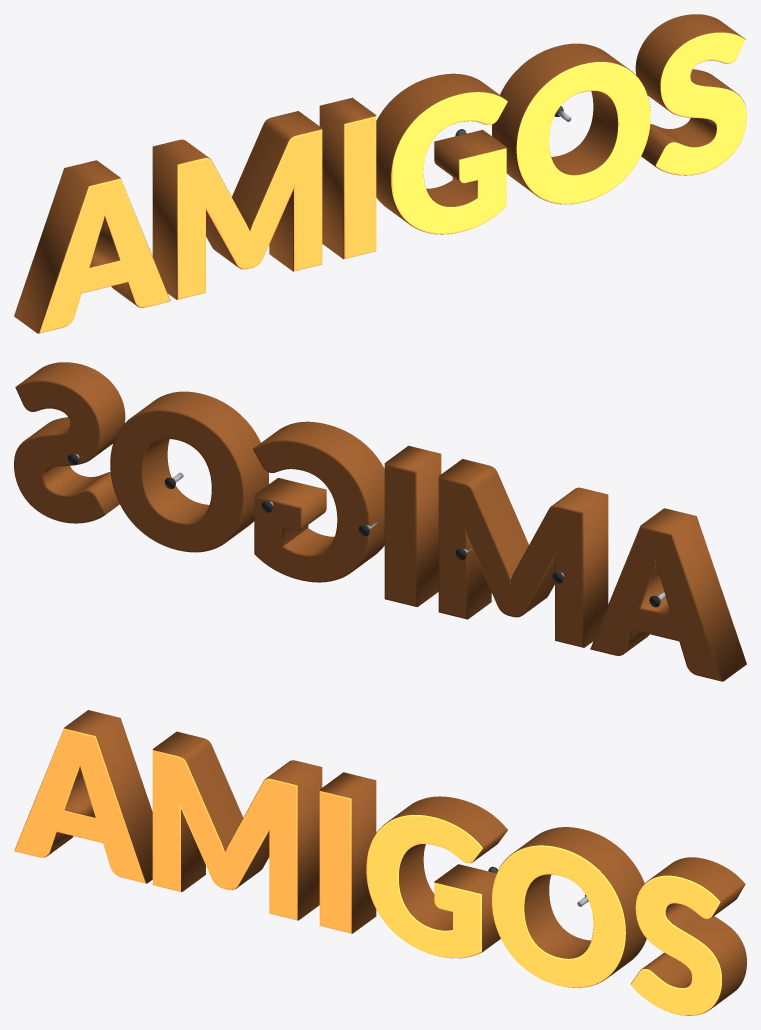
File: AMIGOS_Wordmark.glb
3 views of the same model, one above another, from view 1: azimuth 30°, elevation 25°; view 2: azimuth 150°, elevation 25°; view 3: azimuth 330°, elevation 25° (orthographic).
Parts seen in each view (by area): view 1: AMIGOS | large fabricated six-letter sign; view 2: AMIGOS | large fabricated six-letter sign; view 3: AMIGOS | large fabricated six-letter sign.
Boxes of the visible parts, x1,y1,x2,y2 form: AMIGOS | large fabricated six-letter sign: (14, 14, 746, 333); AMIGOS | large fabricated six-letter sign: (14, 362, 746, 681); AMIGOS | large fabricated six-letter sign: (14, 710, 746, 1015).
Size of the model in its own units: 5.2 by 0.9738 by 0.373.
